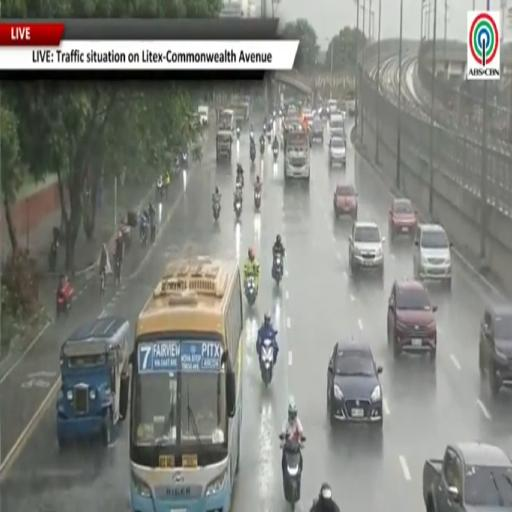bus: (130, 258, 242, 511)
car: (327, 340, 383, 426), (387, 280, 437, 361), (479, 304, 511, 396), (414, 224, 452, 290), (349, 221, 384, 278), (389, 199, 417, 241), (334, 184, 357, 220), (329, 136, 346, 167), (310, 118, 323, 142), (198, 105, 209, 125)
jeepney: (57, 316, 130, 446), (216, 130, 232, 162), (218, 108, 235, 133), (233, 102, 250, 125)
motorcycle: (280, 435, 305, 509), (56, 283, 74, 317), (260, 339, 273, 386), (245, 276, 257, 306), (272, 253, 283, 285), (48, 239, 58, 273), (141, 221, 148, 246), (156, 180, 164, 200), (249, 142, 256, 163), (150, 221, 156, 244), (213, 201, 220, 220), (234, 200, 241, 219), (255, 190, 261, 211), (236, 174, 244, 189), (182, 153, 188, 169), (273, 147, 278, 162), (260, 140, 264, 155), (236, 127, 240, 139), (267, 131, 271, 143), (250, 130, 254, 141)
truck: (423, 442, 511, 511), (284, 131, 310, 181), (216, 109, 234, 162), (232, 101, 250, 125), (330, 115, 345, 137)
